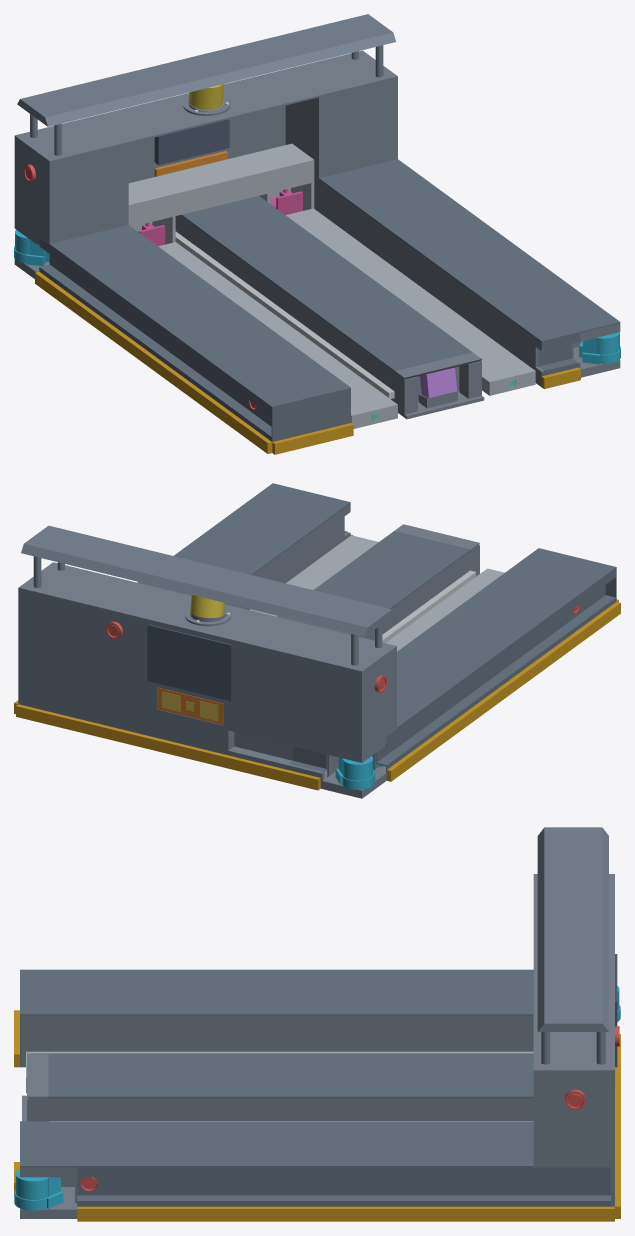
The model's file is ltype_1200x1530_4sensor.glb.
The picture shows the model from 3 angles, top to bottom: view 1: azimuth 30°, elevation 25°; view 2: azimuth 150°, elevation 25°; view 3: azimuth 270°, elevation 25°; orthographic projection. The views are drawn at different scales.
Visible parts, largest first — view 1: pod_top_R, pod_top_L, spine_top_4t, tower_chamfered_roof, tower_mid_deck_6t, fork_carriage, pod_wall_in_L, fork_tine_L, tower_front_side_L, tower_front_side_R, fork_tine_R, spine_wall_R (+21 smaller); view 2: tower_rear_plate_10t, pod_top_R, tower_chamfered_roof, tower_mid_deck_6t, pod_top_L, spine_top_4t, rear_hmi_10in, bumper_rear, bumper_side_R, pod_skin_R_waist_bot, pod_wall_in_L, tower_door_R (+14 smaller); view 3: pod_top_L, pod_top_R, spine_top_4t, pod_wall_in_R, tower_chamfered_roof, spine_wall_L, pod_skin_L_waist, bumper_side_L, tower_door_L, pod_skin_L_up, tower_mid_deck_6t, pod_skin_L_waist_bot (+9 smaller).
Part boxes in pixels (<box>): pod_top_R: <box>49,225,350,407</box>; pod_top_L: <box>319,159,620,342</box>; spine_top_4t: <box>181,196,472,371</box>; tower_chamfered_roof: <box>17,14,395,126</box>; tower_mid_deck_6t: <box>14,50,397,162</box>; fork_carriage: <box>128,143,314,244</box>; pod_wall_in_L: <box>314,176,543,384</box>; fork_tine_L: <box>286,208,535,395</box>; tower_front_side_L: <box>318,78,397,178</box>; tower_front_side_R: <box>49,144,128,243</box>; fork_tine_R: <box>158,242,397,428</box>; spine_wall_R: <box>175,215,395,402</box>; tower_rear_plate_10t: <box>18,589,363,796</box>; pod_top_R: <box>397,548,616,728</box>; tower_chamfered_roof: <box>21,525,394,636</box>; tower_mid_deck_6t: <box>18,562,396,673</box>; pod_top_L: <box>137,483,350,595</box>; spine_top_4t: <box>277,531,470,634</box>; rear_hmi_10in: <box>147,624,232,701</box>; bumper_rear: <box>16,704,320,790</box>; bumper_side_R: <box>386,602,620,781</box>; pod_skin_R_waist_bot: <box>375,595,615,766</box>; pod_wall_in_L: <box>225,504,350,609</box>; tower_door_R: <box>364,648,396,751</box>; pod_top_L: <box>20,1121,533,1167</box>; pod_top_R: <box>20,969,533,1015</box>; spine_top_4t: <box>48,1053,533,1098</box>; pod_wall_in_R: <box>21,1015,533,1065</box>; tower_chamfered_roof: <box>537,827,608,1031</box>; spine_wall_L: <box>48,1098,533,1121</box>; pod_skin_L_waist: <box>77,1177,610,1195</box>; bumper_side_L: <box>77,1206,614,1221</box>; tower_door_L: <box>535,1072,610,1165</box>; pod_skin_L_up: <box>77,1167,610,1176</box>; tower_mid_deck_6t: <box>533,874,614,1072</box>; pod_skin_L_waist_bot: <box>77,1195,610,1202</box>.
Size of the model in its own units: 1.2 by 0.59 by 1.53.
